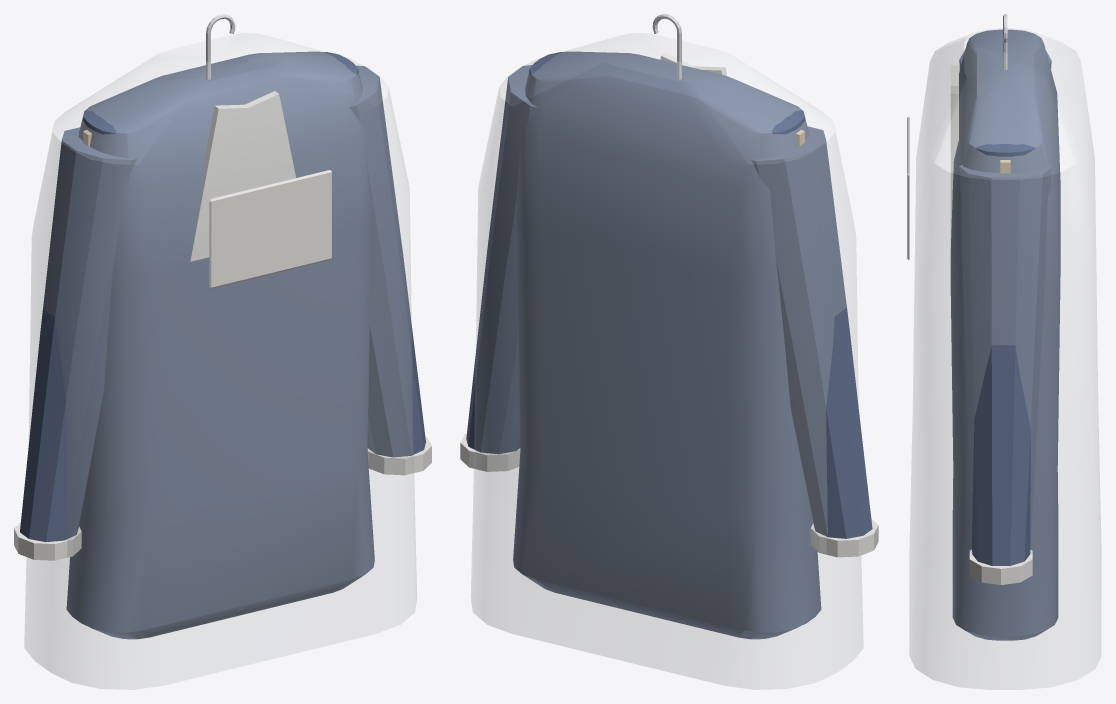
The model's file is clothing-rail-and-wardrobe-suit-on-hanger-with-cover-56b00009__35458.glb.
3 renders of one model, left to right at view 1: azimuth 30°, elevation 25°; view 2: azimuth 150°, elevation 25°; view 3: azimuth 270°, elevation 25°, orthographic. The views are drawn at different scales.
Parts seen in each view (by area): view 1: suit-on-hanger-with-cover; view 2: suit-on-hanger-with-cover; view 3: suit-on-hanger-with-cover.
Boxes of the visible parts, <box> form: suit-on-hanger-with-cover: <box>14,14,431,689</box>; suit-on-hanger-with-cover: <box>460,14,878,689</box>; suit-on-hanger-with-cover: <box>907,14,1101,689</box>.
Bounding box in the file's own units: 0.6664 × 0.9473 × 0.283.
